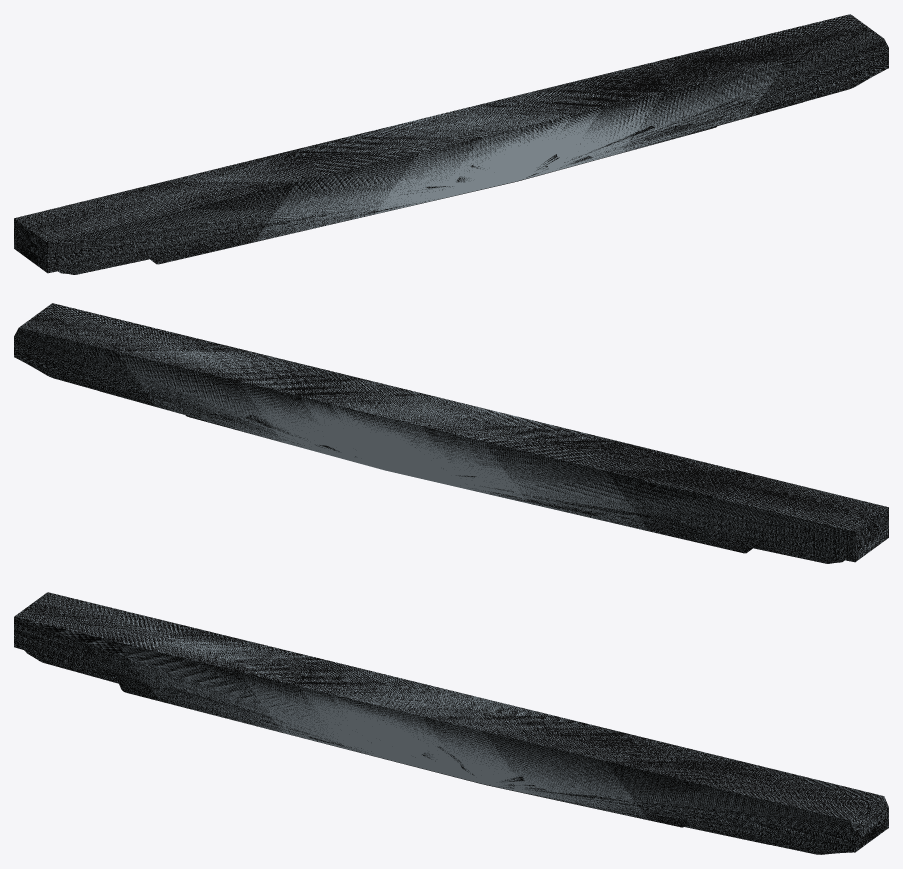
File: TOP3.fbx
3 views of the same model, one above another, from view 1: azimuth 30°, elevation 25°; view 2: azimuth 150°, elevation 25°; view 3: azimuth 330°, elevation 25° (orthographic).
Parts seen in each view (by area): view 1: Group1; view 2: Group1; view 3: Group1.
Part boxes in pixels (x1,y1,x2,y2): Group1: (14, 14, 888, 274); Group1: (14, 303, 888, 563); Group1: (14, 592, 888, 854).
Size of the model in its own units: 28860 by 1750 by 2000.
